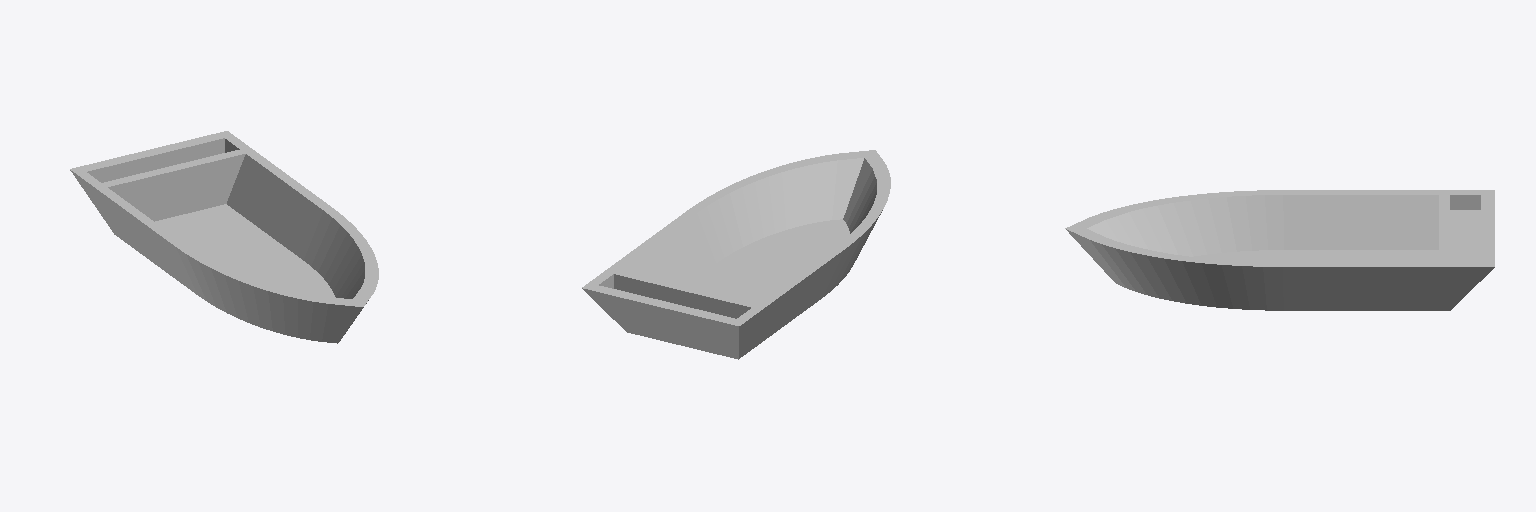
The model's file is boat.obj.
3 views of the same model, side by side, from view 1: azimuth 30°, elevation 25°; view 2: azimuth 150°, elevation 25°; view 3: azimuth 270°, elevation 25° (orthographic).
Visible parts, largest first — view 1: Barco; view 2: Barco; view 3: Barco.
Boxes of the visible parts, x1,y1,x2,y2 form: Barco: [70, 131, 378, 343]; Barco: [582, 150, 890, 359]; Barco: [1065, 190, 1494, 310].
Size of the model in its own units: 2.68 by 0.89 by 6.33.